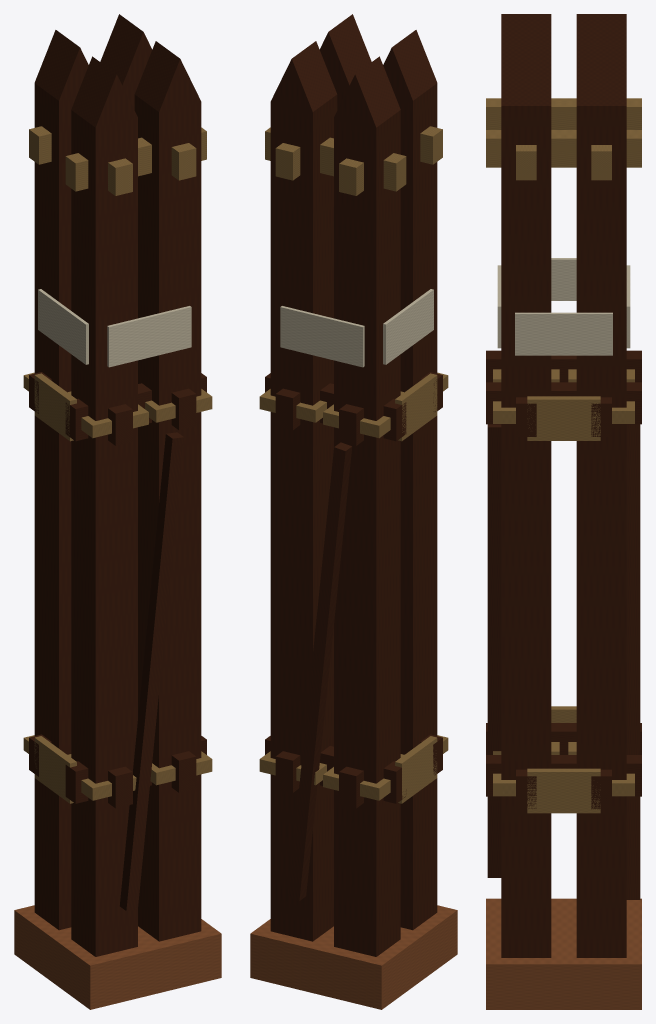
The model's file is Berber_PalisadeBastion_Age2_straight.fbx.
3 views of the same model, side by side, from view 1: azimuth 30°, elevation 25°; view 2: azimuth 150°, elevation 25°; view 3: azimuth 270°, elevation 25° (orthographic). The views are drawn at different scales.
Parts seen in each view (by area): view 1: split_timber_upright.004, split_timber_upright.006, split_timber_upright.005, compacted_earth_footing.001, terminal_diagonal_stay.008, native_owner_stripe_source.006, split_timber_upright.007, native_owner_stripe_source.004, exposed_wall_socket_collar.005, exposed_wall_socket_collar.004, locking_head_tie_x.002, bundle_cross_tie_x.006 (+11 smaller); view 2: split_timber_upright.005, split_timber_upright.007, split_timber_upright.004, compacted_earth_footing.001, terminal_diagonal_stay.006, native_owner_stripe_source.007, split_timber_upright.006, native_owner_stripe_source.004, exposed_wall_socket_collar.005, exposed_wall_socket_collar.004, locking_head_tie_x.003, bundle_cross_tie_x.007 (+11 smaller); view 3: split_timber_upright.006, split_timber_upright.007, compacted_earth_footing.001, terminal_diagonal_stay.006, terminal_diagonal_stay.008, native_owner_stripe_source.005, exposed_wall_socket_collar.002, exposed_wall_socket_collar.003, locking_head_tie_y.003, locking_head_tie_y.002, split_timber_upright.004, split_timber_upright.005 (+14 smaller).
Part boxes in pixels (box(x1,y1,x2,y2)): split_timber_upright.004: box(71, 56, 137, 956); split_timber_upright.006: box(134, 41, 201, 941); split_timber_upright.005: box(34, 30, 88, 930); compacted_earth_footing.001: box(14, 905, 221, 1009); terminal_diagonal_stay.008: box(119, 432, 183, 911); native_owner_stripe_source.006: box(107, 306, 191, 367); split_timber_upright.007: box(100, 14, 152, 109); native_owner_stripe_source.004: box(38, 289, 88, 364); exposed_wall_socket_collar.005: box(34, 373, 76, 441); exposed_wall_socket_collar.004: box(34, 736, 76, 803); locking_head_tie_x.002: box(65, 127, 206, 191); bundle_cross_tie_x.006: box(65, 373, 206, 441); split_timber_upright.005: box(334, 56, 400, 956); split_timber_upright.007: box(270, 41, 337, 941); split_timber_upright.004: box(383, 30, 437, 930); compacted_earth_footing.001: box(250, 905, 457, 1009); terminal_diagonal_stay.006: box(288, 442, 352, 900); native_owner_stripe_source.007: box(280, 306, 364, 367); split_timber_upright.006: box(319, 14, 371, 109); native_owner_stripe_source.004: box(383, 289, 433, 364); exposed_wall_socket_collar.005: box(395, 373, 437, 441); exposed_wall_socket_collar.004: box(395, 736, 437, 803); locking_head_tie_x.003: box(265, 127, 406, 191); bundle_cross_tie_x.007: box(265, 373, 406, 441); split_timber_upright.006: box(501, 46, 551, 957); split_timber_upright.007: box(576, 46, 626, 957); compacted_earth_footing.001: box(486, 898, 641, 1009); terminal_diagonal_stay.006: box(626, 424, 640, 899); terminal_diagonal_stay.008: box(487, 424, 501, 877); native_owner_stripe_source.005: box(515, 312, 612, 355); exposed_wall_socket_collar.002: box(527, 768, 600, 813); exposed_wall_socket_collar.003: box(527, 396, 600, 440); locking_head_tie_y.003: box(486, 130, 641, 167); locking_head_tie_y.002: box(486, 98, 641, 129); split_timber_upright.004: box(501, 14, 551, 45); split_timber_upright.005: box(576, 14, 626, 45).
Size of the model in its own units: 68.29 by 458 by 68.29.
Materials: 4 (4 with a texture image).
